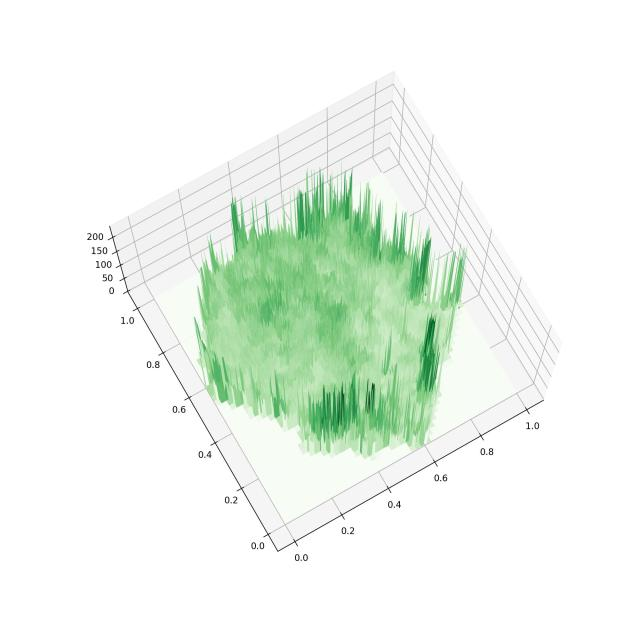fir: (61, 46, 587, 598)
